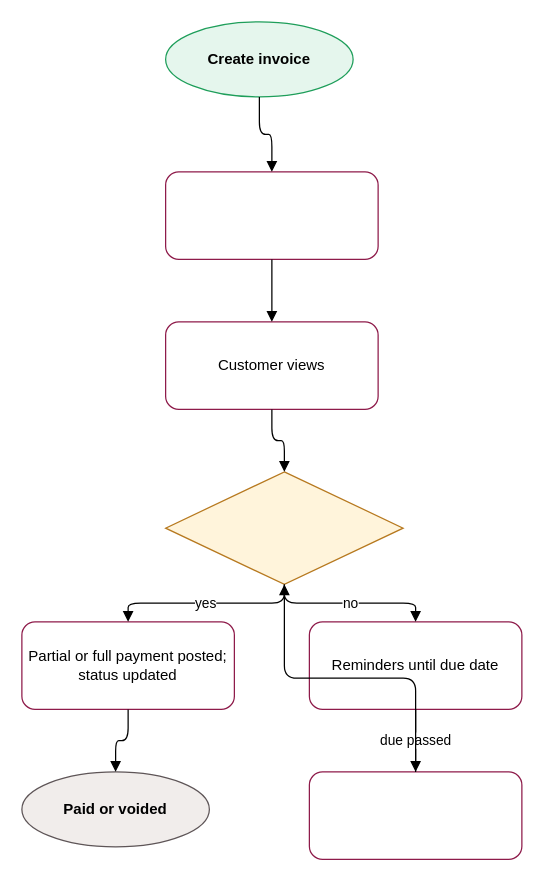
This 544x881 diagram has some shape labels left out. Here are the shapes that lost their labels. From the top down, the box of each, then its label:
(164, 171, 378, 259): Send by link/SMS/email
(164, 471, 403, 584): Paid?
(308, 771, 522, 859): Overdue; escalate reminders
